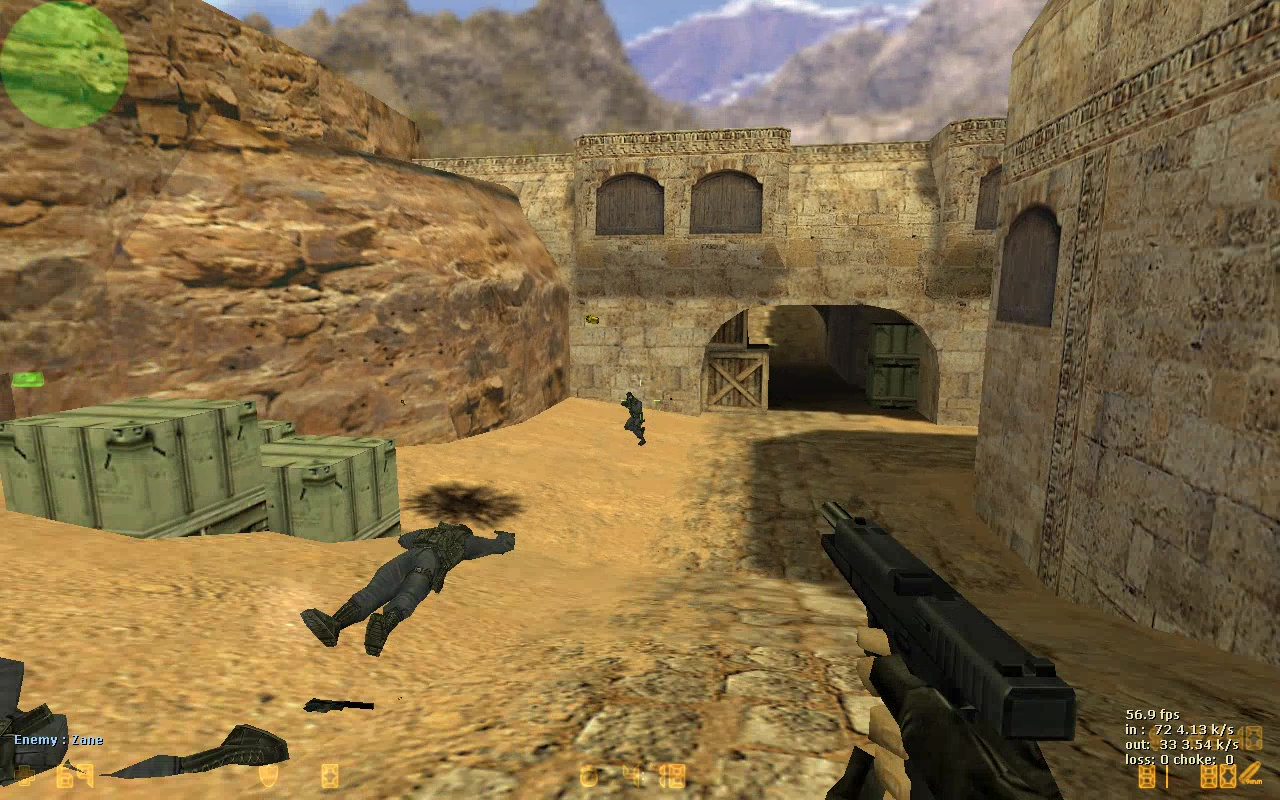ct: (616, 393, 650, 445)
dead: (303, 520, 516, 647)
